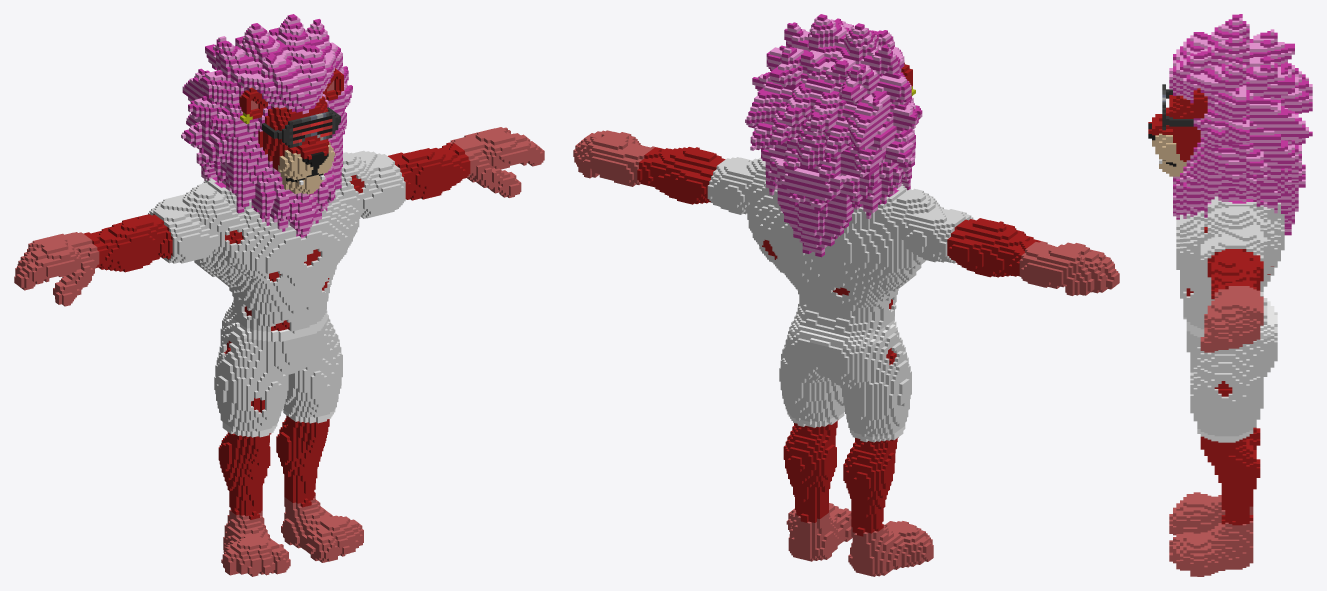
3 renders of one model, left to right at view 1: azimuth 30°, elevation 25°; view 2: azimuth 150°, elevation 25°; view 3: azimuth 270°, elevation 25°, orthographic. The views are drawn at different scales.
Visible parts, largest first — view 1: standard; view 2: standard; view 3: standard.
Part boxes in pixels (x1=…): standard: x1=14, y1=14, x2=544, y2=576; standard: x1=573, y1=14, x2=1119, y2=576; standard: x1=1148, y1=14, x2=1312, y2=576.
Size of the model in its own units: 17.2 by 16.5 by 4.7.
Materials: 6 (6 with a texture image).
